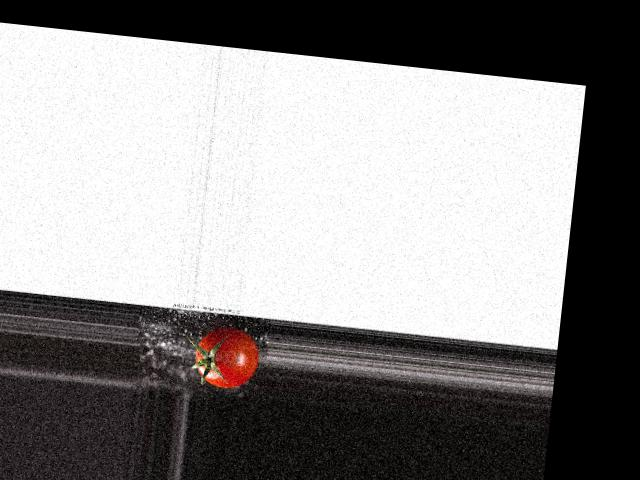tomato: (192, 324, 261, 391)
